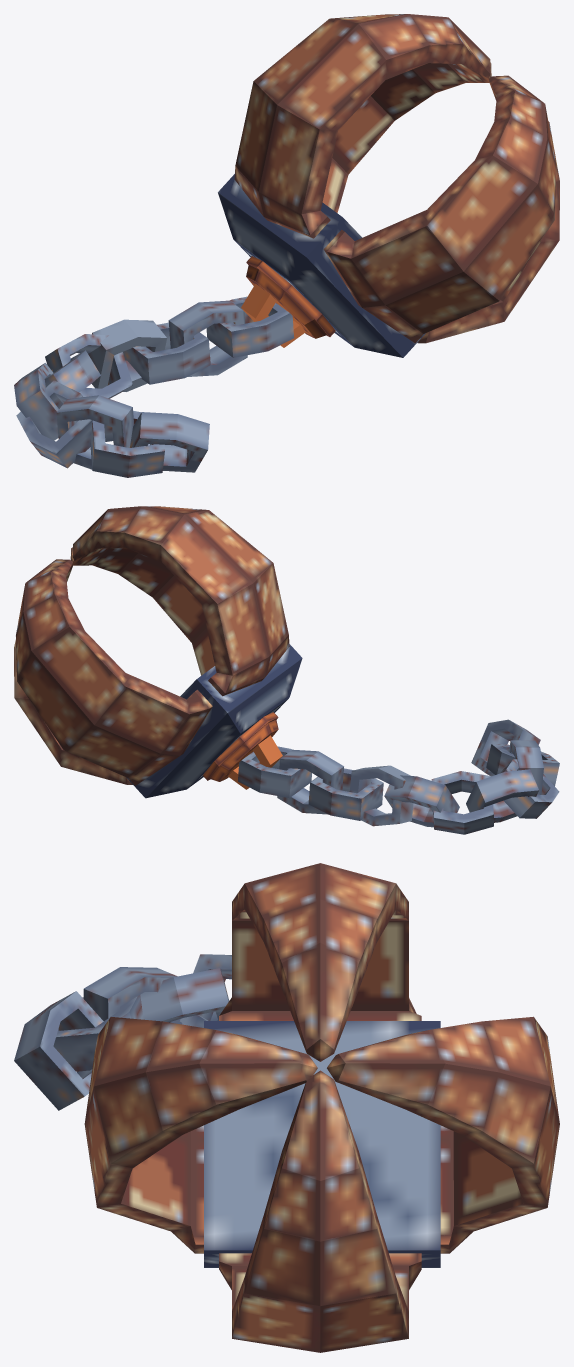
Rendered from Garra_v1.fbx.
3 renders of one model, top to bottom at view 1: azimuth 30°, elevation 25°; view 2: azimuth 150°, elevation 25°; view 3: azimuth 270°, elevation 25°, orthographic. The views are drawn at different scales.
Visible parts, largest first — view 1: Garra; view 2: Garra; view 3: Garra.
Part boxes in pixels (x1,y1,x2,y2): Garra: (14,14,559,477); Garra: (14,506,559,834); Garra: (14,863,559,1352).
Bounding box in the file's own units: 847 × 520 × 441.
